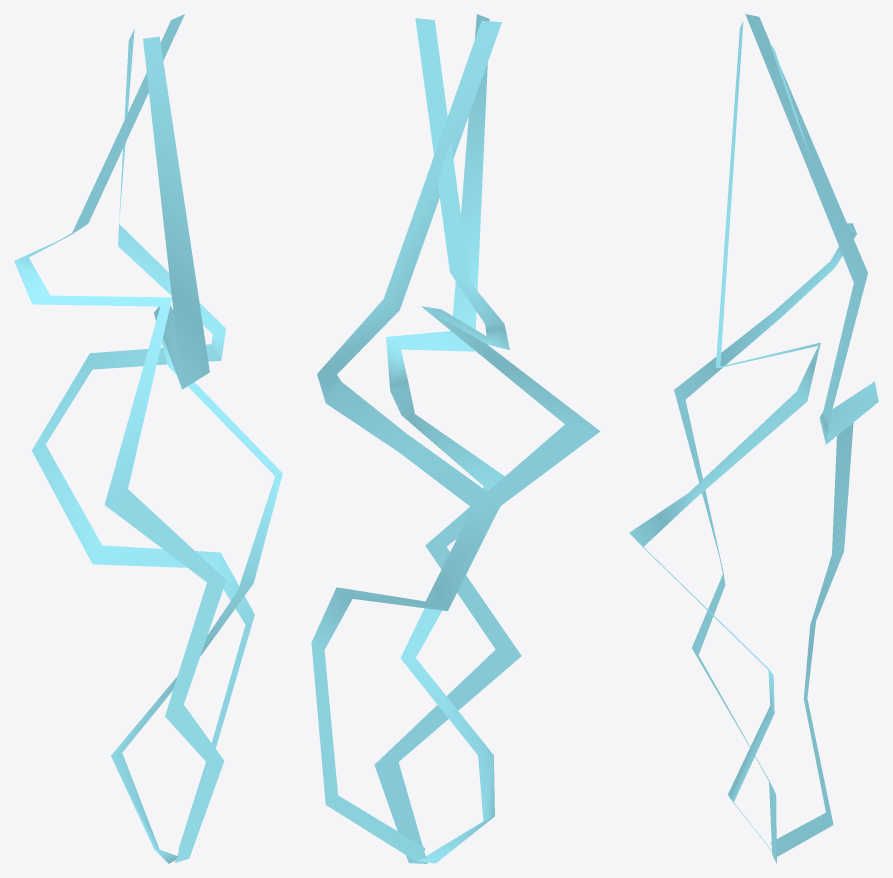
Rendered from electricidad_pasillo-001.gltf.
3 renders of one model, left to right at view 1: azimuth 30°, elevation 25°; view 2: azimuth 150°, elevation 25°; view 3: azimuth 270°, elevation 25°, orthographic. The views are drawn at different scales.
Visible parts, largest first — view 1: Electr-Pasillo-f.001; view 2: Electr-Pasillo-f.001; view 3: Electr-Pasillo-f.001.
Boxes of the visible parts, bbox=[...] form: Electr-Pasillo-f.001: bbox=[14, 14, 282, 863]; Electr-Pasillo-f.001: bbox=[311, 14, 600, 863]; Electr-Pasillo-f.001: bbox=[629, 14, 878, 863].
Size of the model in its own units: 1.35 by 4.98 by 1.38.
1 material, 1 textured.
